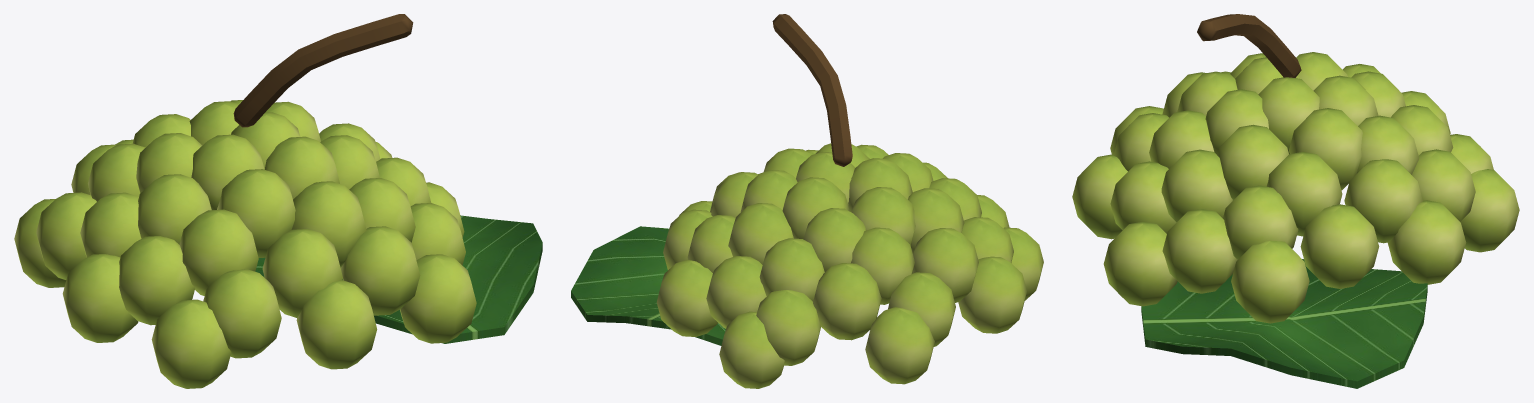
File: fruit_grapes_green_vine.glb
3 views of the same model, side by side, from view 1: azimuth 30°, elevation 25°; view 2: azimuth 150°, elevation 25°; view 3: azimuth 270°, elevation 25° (orthographic). The views are drawn at different scales.
Parts seen in each view (by area): view 1: fruit_grapes_green_vine; view 2: fruit_grapes_green_vine; view 3: fruit_grapes_green_vine.
Boxes of the visible parts, left/top/right/bottom form: fruit_grapes_green_vine: left=14, top=14, right=542, bottom=388; fruit_grapes_green_vine: left=571, top=14, right=1043, bottom=388; fruit_grapes_green_vine: left=1072, top=14, right=1519, bottom=388.
Bounding box in the file's own units: 0.1266 × 0.0785 × 0.1081.
Materials: 3 (2 with a texture image).
